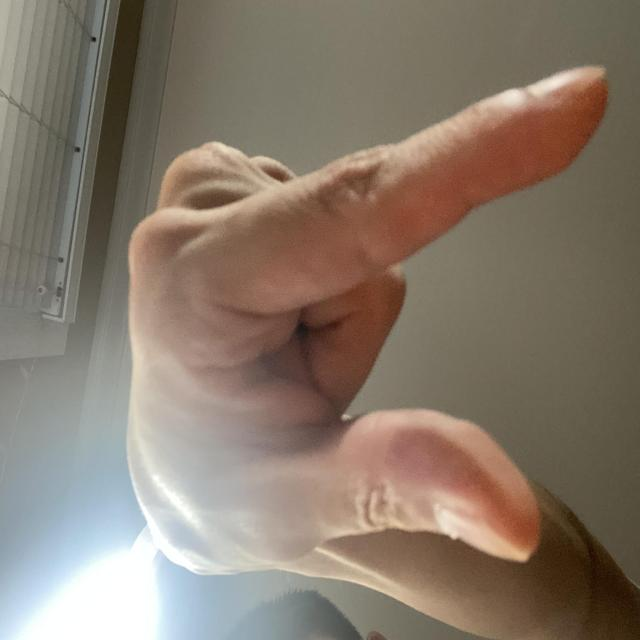Q: (42, 160, 440, 640)
